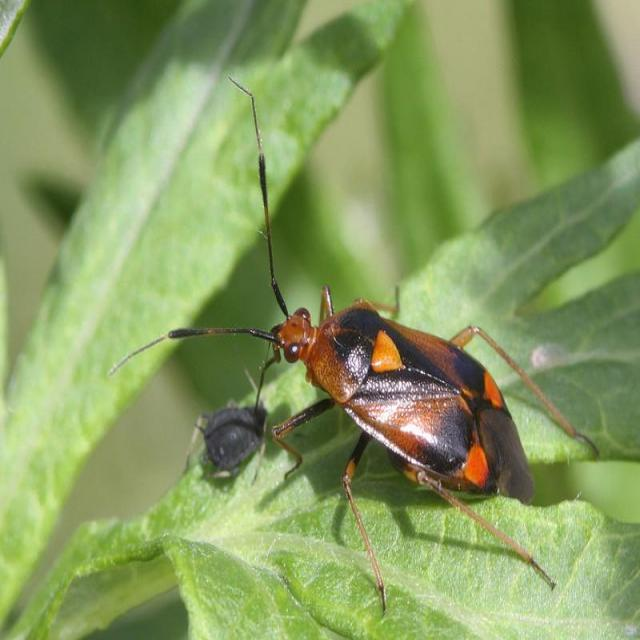Miridae-Adult-: (119, 59, 601, 576)
